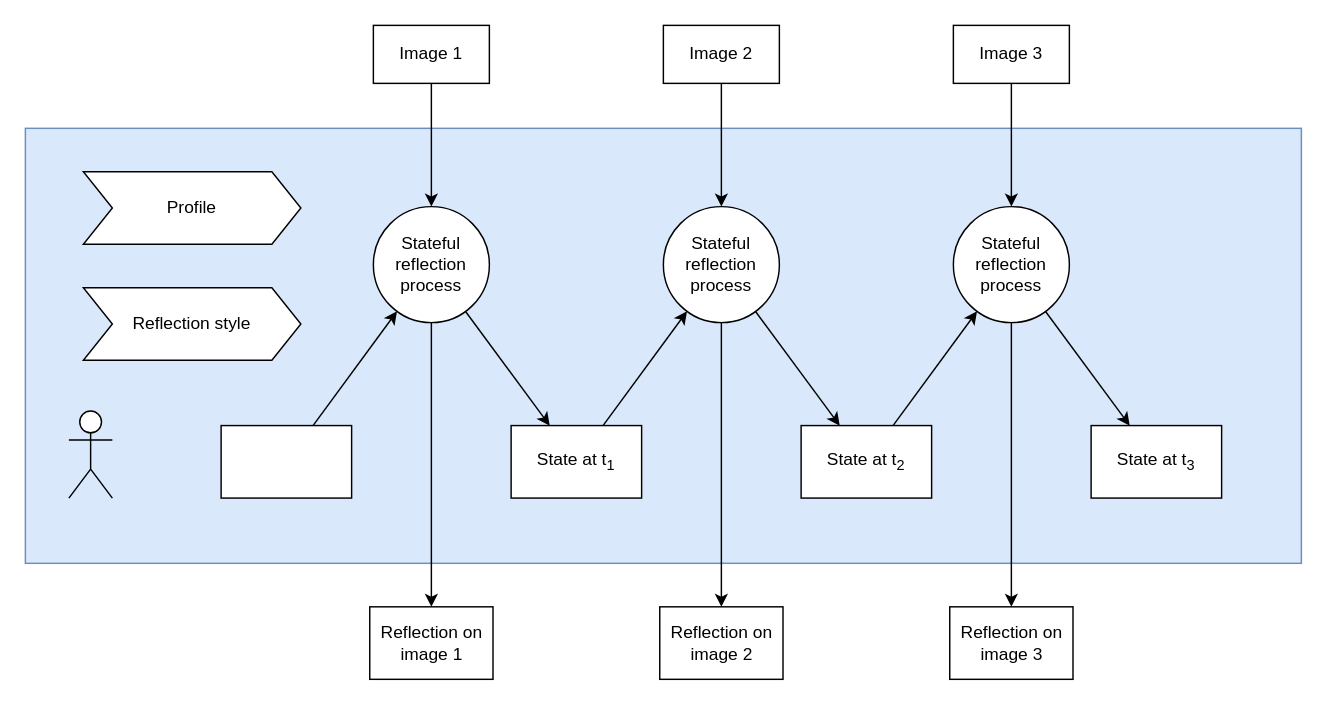
The diagram is 1327 pixels wide and 705 high, and some of its shapes have lost their labels. The centre of each missing label's shape, as x and y in pixels:
Initial internal state at t 0: (x=286, y=461)
Simulated viewer: (x=89, y=454)
